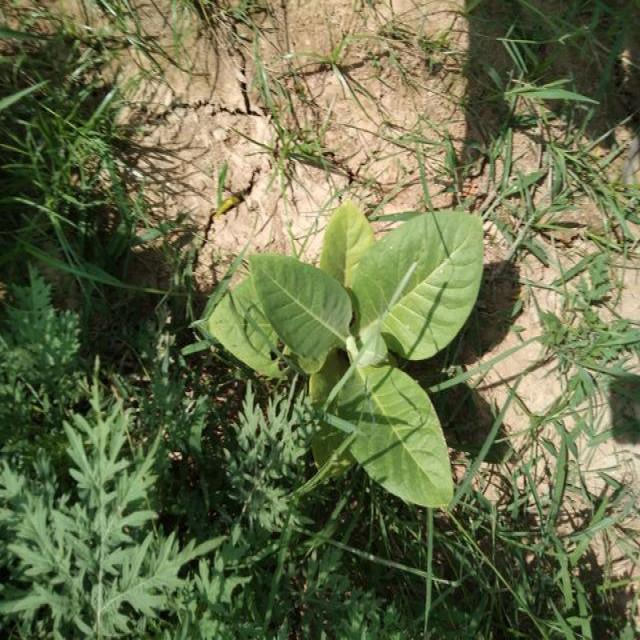crop: (221, 206, 472, 502)
